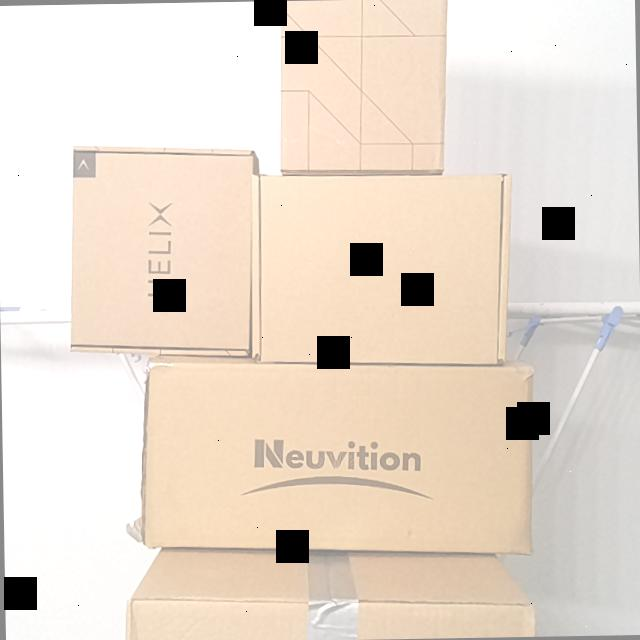box: (141, 358, 533, 551), (250, 172, 514, 364), (68, 148, 256, 354), (276, 0, 442, 171), (127, 596, 534, 640)
